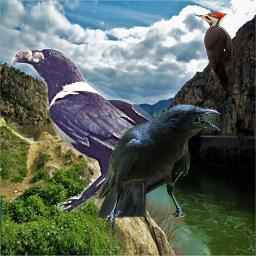Crow: (11, 47, 187, 212), (94, 104, 221, 230)
Woodpecker: (192, 12, 235, 94)
